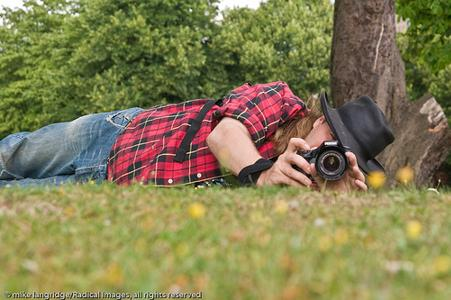person: (2, 79, 392, 197)
